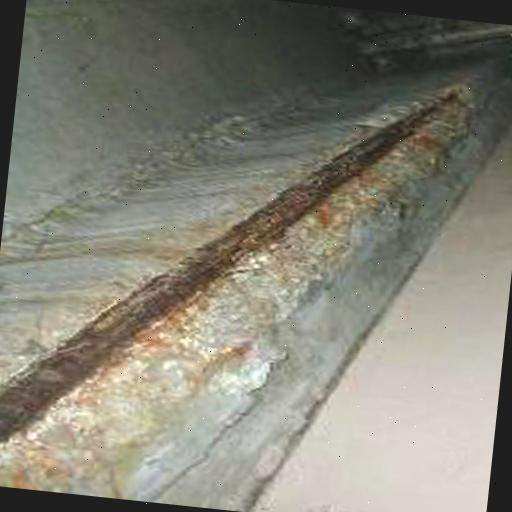spalling: (0, 83, 476, 469)
